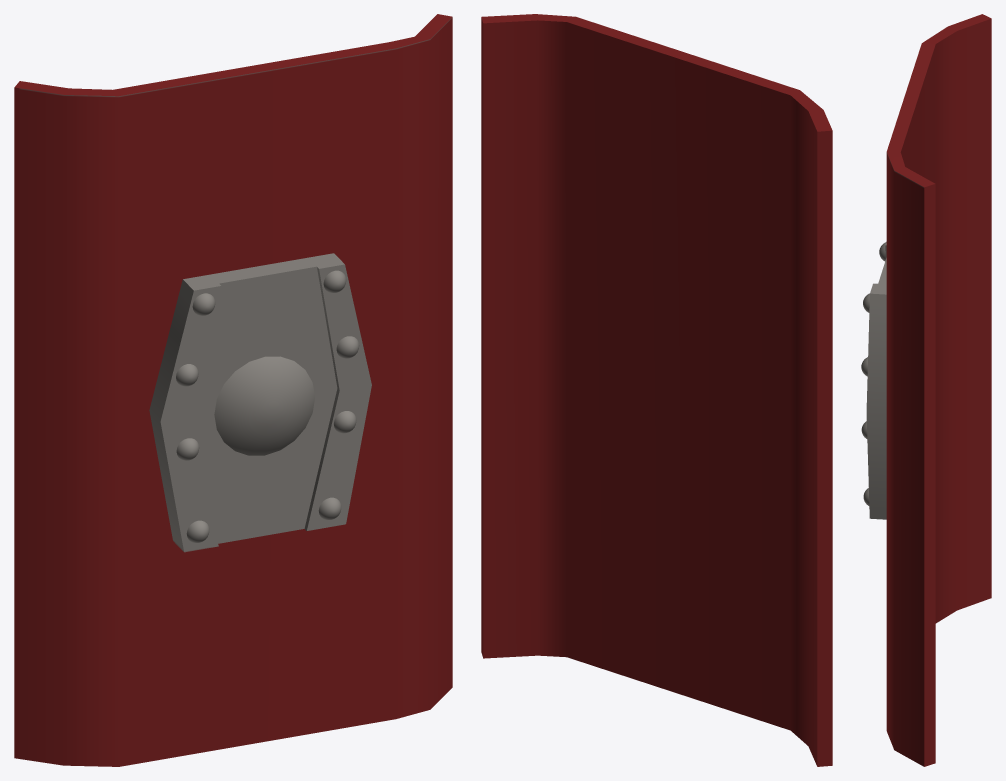
Rendered from shieldObj.glb.
3 views of the same model, side by side, from view 1: azimuth 30°, elevation 25°; view 2: azimuth 150°, elevation 25°; view 3: azimuth 270°, elevation 25° (orthographic). The views are drawn at different scales.
Visible parts, largest first — view 1: Shield_ShieldNobsHalfSphere9.001; view 2: Shield_ShieldNobsHalfSphere9.001; view 3: Shield_ShieldNobsHalfSphere9.001.
Part boxes in pixels (box(x1,y1,x2,y2)): Shield_ShieldNobsHalfSphere9.001: box(14, 14, 452, 766); Shield_ShieldNobsHalfSphere9.001: box(481, 14, 832, 766); Shield_ShieldNobsHalfSphere9.001: box(861, 14, 991, 766).
Bounding box in the file's own units: 3.08 × 4.9 × 0.9932.
1 material, 1 textured.
